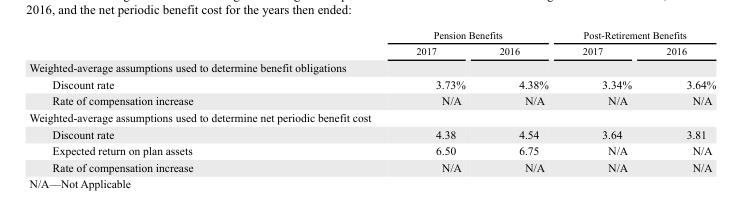table: (28, 28, 715, 173)
table column: (28, 28, 304, 173), (304, 28, 481, 173), (564, 28, 648, 173), (481, 28, 564, 173), (648, 28, 715, 173)
table column header: (28, 28, 715, 58)
table projected row header: (28, 58, 715, 75), (28, 108, 715, 125)
table row: (28, 58, 715, 75), (28, 75, 715, 92), (28, 108, 715, 125), (28, 125, 715, 142), (28, 42, 715, 58), (28, 92, 715, 108), (28, 142, 715, 158), (28, 158, 715, 173), (28, 28, 715, 42)
table spanning cell: (304, 28, 564, 42), (564, 28, 715, 42)
